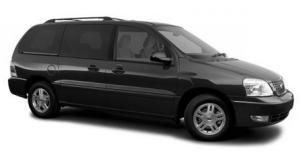car: (5, 15, 298, 139)
